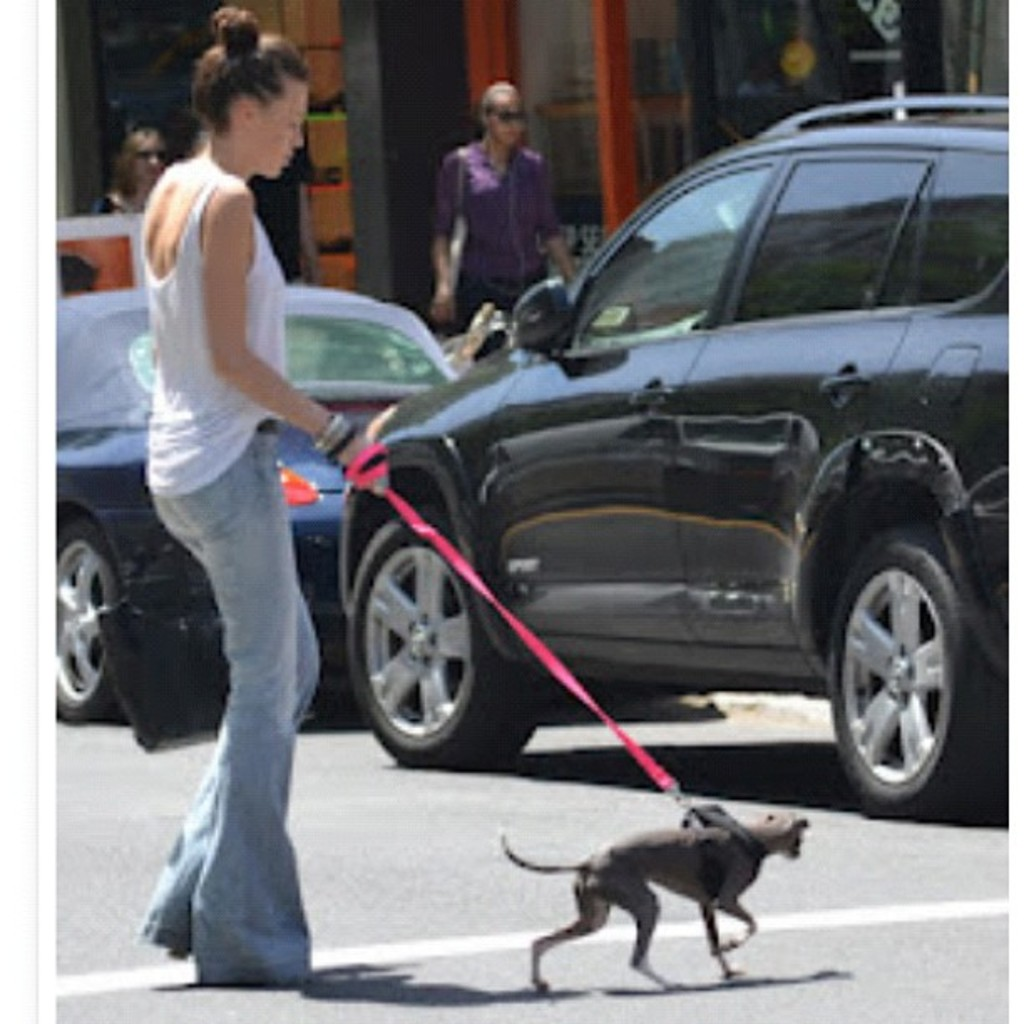Car: (337, 97, 1010, 819), (51, 286, 455, 722)
